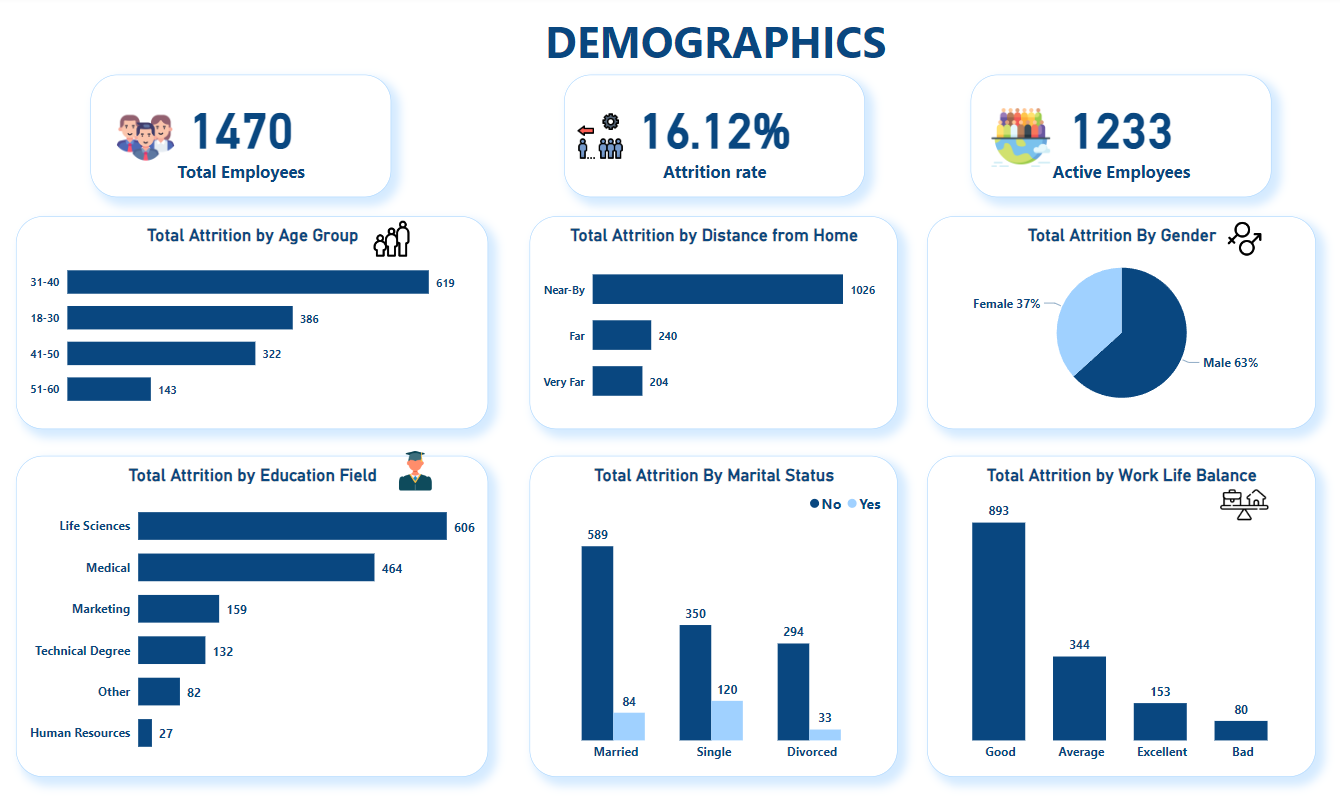

The dashboard page shown, as its layout file describes it:
{"tool":"powerbi","page":{"name":"DEMOGRAPHICS","canvas":[1500,900],"ordinal":1},"visuals":[{"type":"card","fields":{"Values":["Sum(HR-Employee-Attrition.EmployeeCount)"]},"box":[104.9,91.3,335.3,136.9],"z":0},{"type":"clusteredBarChart","title":"Total Attrition by Education Field","fields":{"Category":["HR-Employee-Attrition.EducationField"],"Y":["CountNonNull(HR-Employee-Attrition.Attrition)"]},"box":[22.8,515.6,527,358.2],"z":1000},{"type":"card","fields":{"Values":["HR-Employee-Attrition.Attrition rate"]},"box":[634.2,91.3,335.3,136.9],"z":2000},{"type":"card","fields":{"Values":["HR-Employee-Attrition.Total employees left"]},"box":[1088.2,91.3,335.3,136.9],"z":3000},{"type":"pieChart","title":"Total Attrition By Gender","fields":{"Category":["HR-Employee-Attrition.Gender"],"Y":["Sum(HR-Employee-Attrition.Attrition number)"]},"box":[1038,248.7,433.4,237.3],"z":4000},{"type":"clusteredColumnChart","title":"Total Attrition By Marital Status","fields":{"Category":["HR-Employee-Attrition.MaritalStatus"],"Series":["HR-Employee-Attrition.Attrition"],"Y":["Sum(HR-Employee-Attrition.EmployeeCount)"]},"box":[595.4,515.6,410.6,358.2],"z":5000},{"type":"columnChart","title":"Total Attrition by Work Life Balance","fields":{"Category":["HR-Employee-Attrition.WorkLifeBalance (groups)"],"Y":["Sum(HR-Employee-Attrition.EmployeeCount)"]},"box":[1038,515.6,433.4,358.2],"z":6000},{"type":"barChart","title":"Total Attrition by Age Group","fields":{"Category":["HR-Employee-Attrition.Age (groups)"],"Y":["CountNonNull(HR-Employee-Attrition.Attrition)"]},"box":[22.8,248.7,527,237.3],"z":7000},{"type":"barChart","title":"Total Attrition by Distance from Home","fields":{"Category":["HR-Employee-Attrition.DistanceFromHome (groups)"],"Y":["CountNonNull(HR-Employee-Attrition.Attrition)"]},"box":[595.4,248.7,410.6,237.3],"z":8000},{"type":"textbox","box":[244.1,16,1115.5,148.3],"z":9000},{"type":"image","box":[123.2,123.2,86.7,75.3],"z":10000},{"type":"image","box":[408.3,248.7,63.9,50.2],"z":11000},{"type":"image","box":[634.2,127.8,79.8,63.9],"z":12000},{"type":"image","box":[1359.6,248.7,63.9,50.2],"z":13000},{"type":"image","box":[1106.4,123.2,75.3,75.3],"z":14000},{"type":"image","box":[1359.6,533.8,63.9,73],"z":15000},{"type":"image","box":[440.3,492.8,57,82.1],"z":16000}]}

Visuals, with their boxes in screenshot pixels (x1, y1, x2, y2), scaled from the page's 1500x900 canvas onto the 1340x796 screenshot:
card - Sum(HR-Employee-Attrition.EmployeeCount): {"x1": 94, "y1": 81, "x2": 393, "y2": 202}
"Total Attrition by Education Field" clusteredBarChart: {"x1": 20, "y1": 456, "x2": 491, "y2": 773}
card - HR-Employee-Attrition.Attrition rate: {"x1": 567, "y1": 81, "x2": 866, "y2": 202}
card - HR-Employee-Attrition.Total employees left: {"x1": 972, "y1": 81, "x2": 1272, "y2": 202}
"Total Attrition By Gender" pieChart: {"x1": 927, "y1": 220, "x2": 1314, "y2": 430}
"Total Attrition By Marital Status" clusteredColumnChart: {"x1": 532, "y1": 456, "x2": 899, "y2": 773}
"Total Attrition by Work Life Balance" columnChart: {"x1": 927, "y1": 456, "x2": 1314, "y2": 773}
"Total Attrition by Age Group" barChart: {"x1": 20, "y1": 220, "x2": 491, "y2": 430}
"Total Attrition by Distance from Home" barChart: {"x1": 532, "y1": 220, "x2": 899, "y2": 430}
textbox: {"x1": 218, "y1": 14, "x2": 1215, "y2": 145}
image: {"x1": 110, "y1": 109, "x2": 188, "y2": 176}
image: {"x1": 365, "y1": 220, "x2": 422, "y2": 264}
image: {"x1": 567, "y1": 113, "x2": 638, "y2": 170}
image: {"x1": 1215, "y1": 220, "x2": 1272, "y2": 264}
image: {"x1": 988, "y1": 109, "x2": 1056, "y2": 176}
image: {"x1": 1215, "y1": 472, "x2": 1272, "y2": 537}
image: {"x1": 393, "y1": 436, "x2": 444, "y2": 508}
